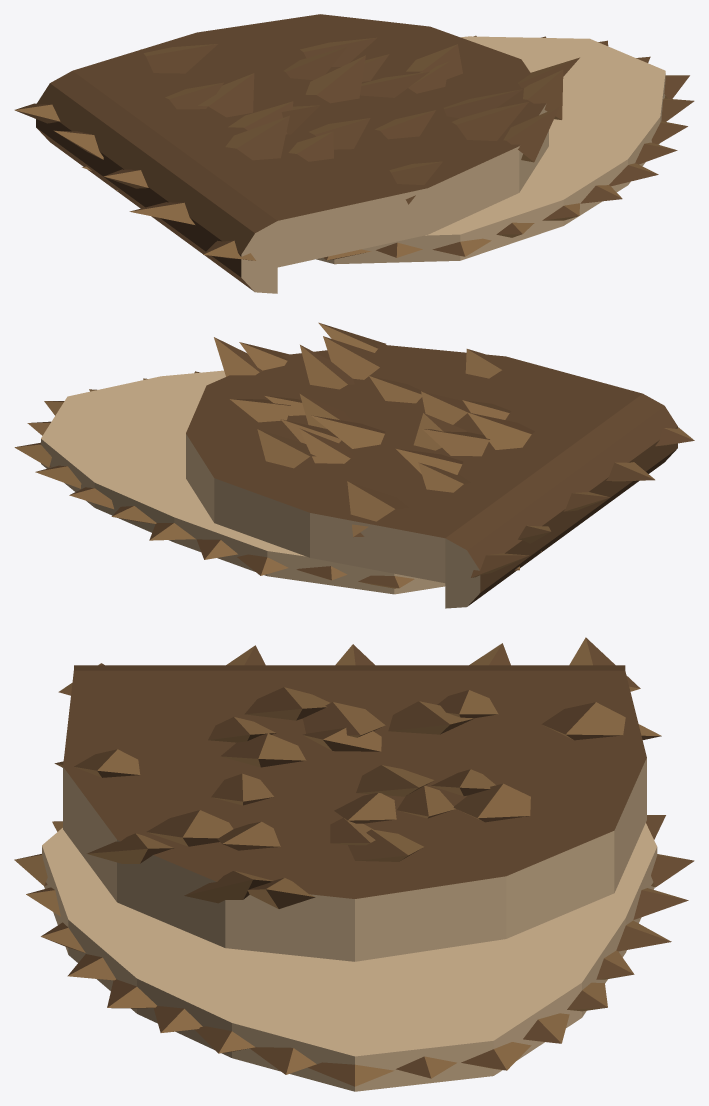
File: it-hide.glb
3 views of the same model, one above another, from view 1: azimuth 30°, elevation 25°; view 2: azimuth 150°, elevation 25°; view 3: azimuth 270°, elevation 25° (orthographic). The views are drawn at different scales.
Parts seen in each view (by area): view 1: hide_flap, fur_flap, hide_base, fur_rim; view 2: hide_flap, fur_flap, hide_base, fur_rim; view 3: hide_flap, hide_base, fur_flap, fur_rim.
Part boxes in pixels (x1=…): hide_flap: x1=36, y1=14, x2=548, y2=293; fur_flap: x1=14, y1=37, x2=579, y2=260; hide_base: x1=316, y1=36, x2=665, y2=264; fur_rim: x1=82, y1=35, x2=694, y2=260; hide_flap: x1=186, y1=344, x2=677, y2=608; fur_flap: x1=214, y1=322, x2=694, y2=577; hide_base: x1=41, y1=370, x2=445, y2=594; fur_rim: x1=14, y1=371, x2=541, y2=588; hide_flap: x1=63, y1=665, x2=646, y2=961; hide_base: x1=42, y1=823, x2=657, y2=1091; fur_flap: x1=54, y1=637, x2=661, y2=908; fur_rim: x1=14, y1=815, x2=694, y2=1086.
Size of what is drawn, in the model's own units: 0.4293 by 0.0637 by 0.3149.
